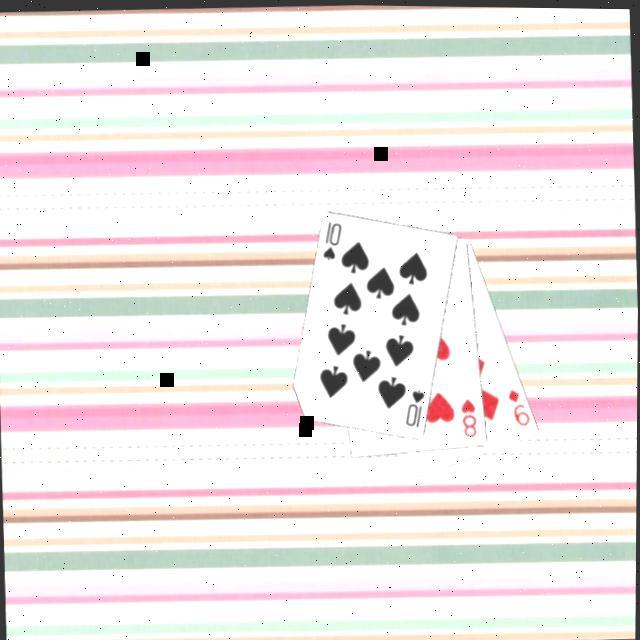10S: (404, 382, 432, 428), (320, 215, 348, 261)
8H: (459, 390, 483, 436)
9D: (506, 381, 536, 426)
